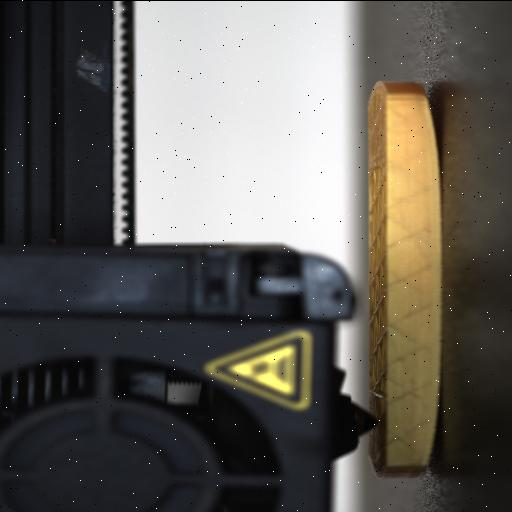warp: (414, 381, 446, 480), (407, 76, 446, 148)
